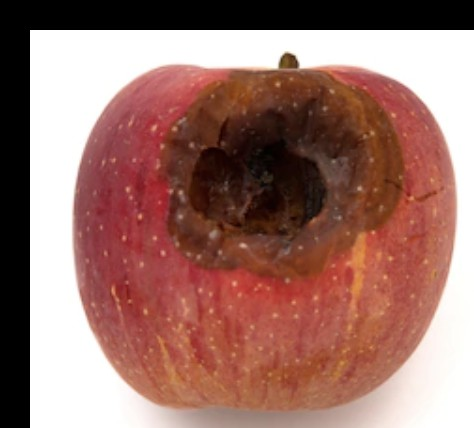rotten_apple: (67, 58, 458, 411)
